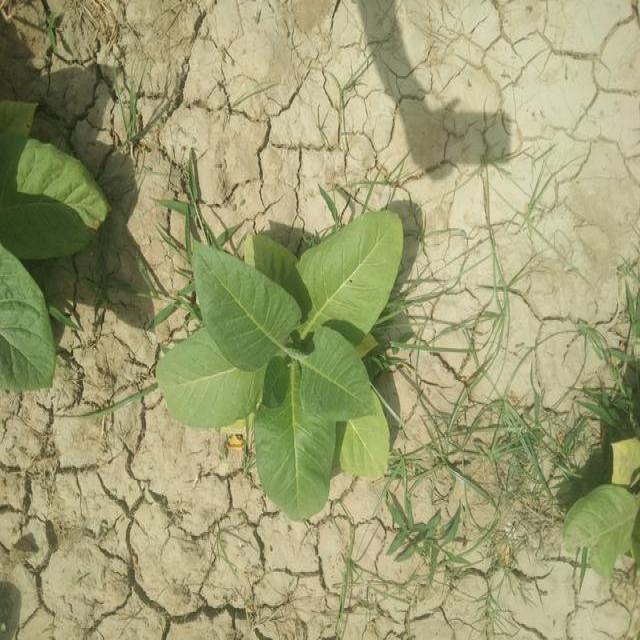crop: (162, 223, 415, 510), (0, 101, 111, 396), (567, 436, 640, 576)
